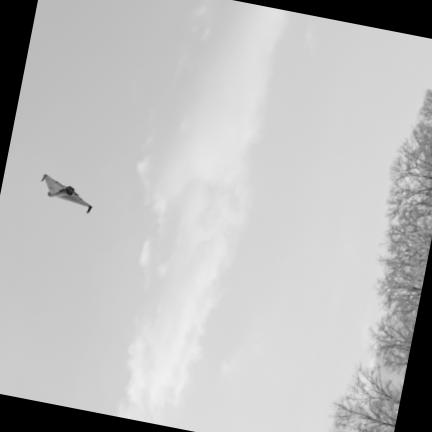Shahed: (42, 174, 92, 212)
